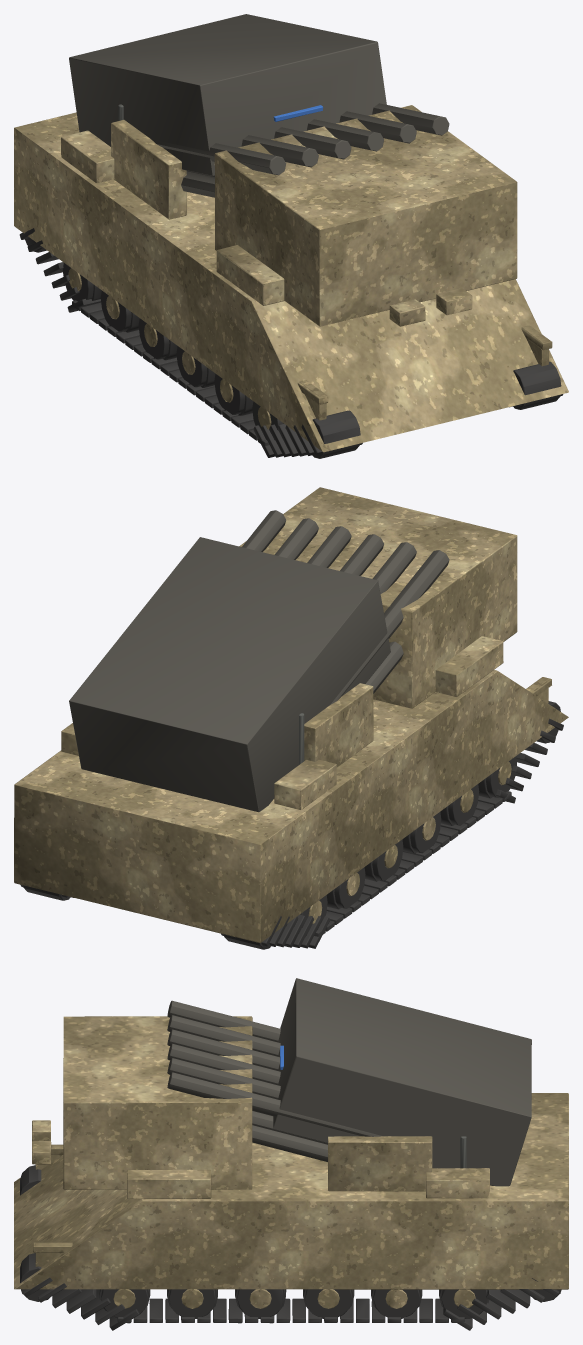
Rendered from art_e4_us_mlrs_LOD1.glb.
3 renders of one model, top to bottom at view 1: azimuth 30°, elevation 25°; view 2: azimuth 150°, elevation 25°; view 3: azimuth 270°, elevation 25°, orthographic. The views are drawn at different scales.
Parts seen in each view (by area): view 1: art_e4_us_mlrs_LOD1_body, art_e4_us_mlrs_LOD1_deck, art_e4_us_mlrs_LOD1_track; view 2: art_e4_us_mlrs_LOD1_body, art_e4_us_mlrs_LOD1_deck, art_e4_us_mlrs_LOD1_track; view 3: art_e4_us_mlrs_LOD1_body, art_e4_us_mlrs_LOD1_deck, art_e4_us_mlrs_LOD1_track.
Boxes of the visible parts, <box> form: art_e4_us_mlrs_LOD1_body: <box>14,105,568,452</box>; art_e4_us_mlrs_LOD1_deck: <box>69,14,449,197</box>; art_e4_us_mlrs_LOD1_track: <box>19,228,563,458</box>; art_e4_us_mlrs_LOD1_body: <box>14,487,568,942</box>; art_e4_us_mlrs_LOD1_deck: <box>69,510,449,812</box>; art_e4_us_mlrs_LOD1_track: <box>20,701,563,949</box>; art_e4_us_mlrs_LOD1_body: <box>14,1016,568,1308</box>; art_e4_us_mlrs_LOD1_deck: <box>167,978,531,1186</box>; art_e4_us_mlrs_LOD1_track: <box>20,1165,561,1330</box>.
Size of the model in its own units: 3.18 by 3.56 by 6.89.
5 materials, 1 textured.
